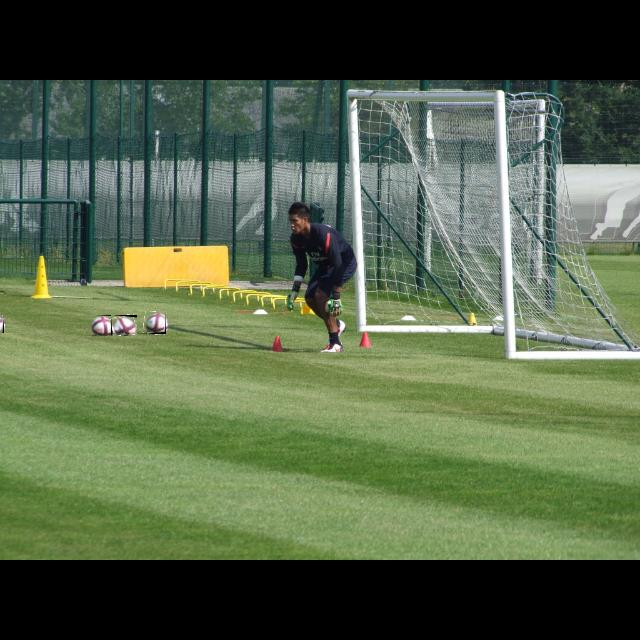Football: (111, 315, 137, 335), (144, 312, 166, 334), (92, 315, 114, 335), (0, 315, 4, 333)
